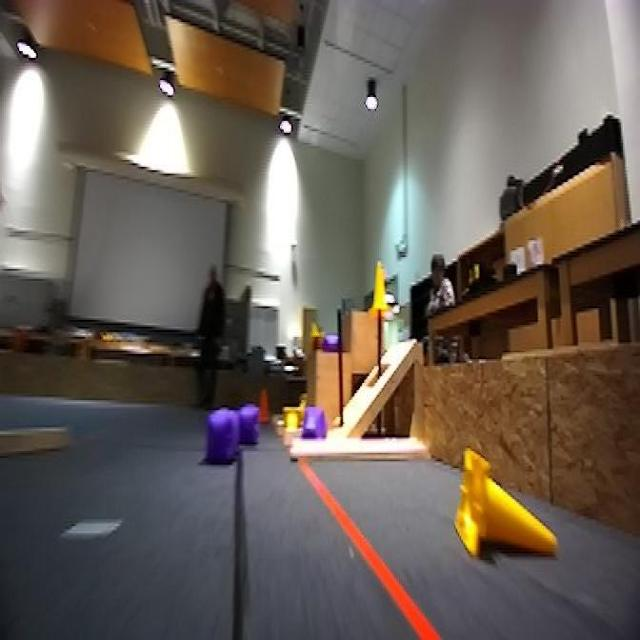frc_cone: (453, 446, 557, 553), (370, 262, 390, 315), (280, 408, 303, 431)
frc_cube: (205, 414, 241, 466), (238, 405, 261, 446), (300, 402, 323, 437), (325, 328, 342, 352)
